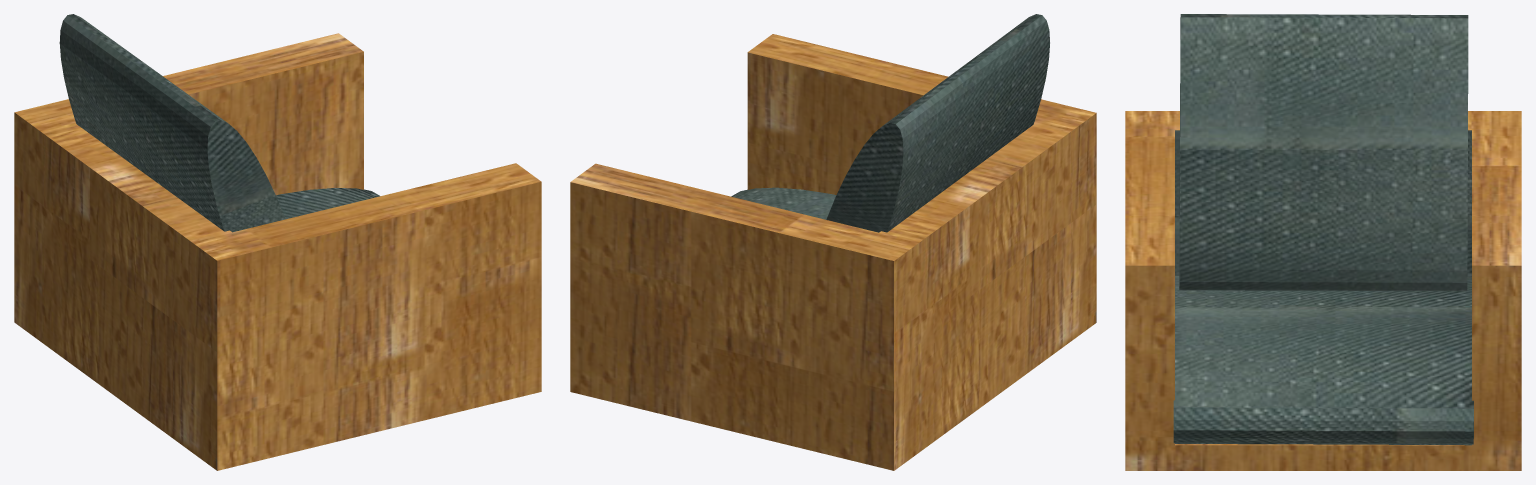
Rendered from green sofa.fbx.
3 views of the same model, side by side, from view 1: azimuth 30°, elevation 25°; view 2: azimuth 150°, elevation 25°; view 3: azimuth 270°, elevation 25° (orthographic). The views are drawn at different scales.
Visible parts, largest first — view 1: Cube; view 2: Cube; view 3: Cube.
Boxes of the visible parts, x1,y1,x2,y2 form: Cube: (14,14,541,470); Cube: (570,14,1096,470); Cube: (1125,14,1521,470).
Size of the model in its own units: 529 by 477 by 536.
1 material, 1 textured.
